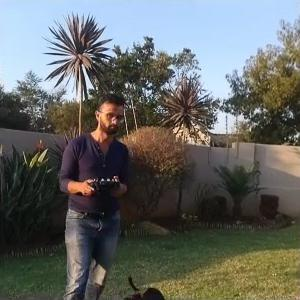follow: (54, 86, 130, 298)
